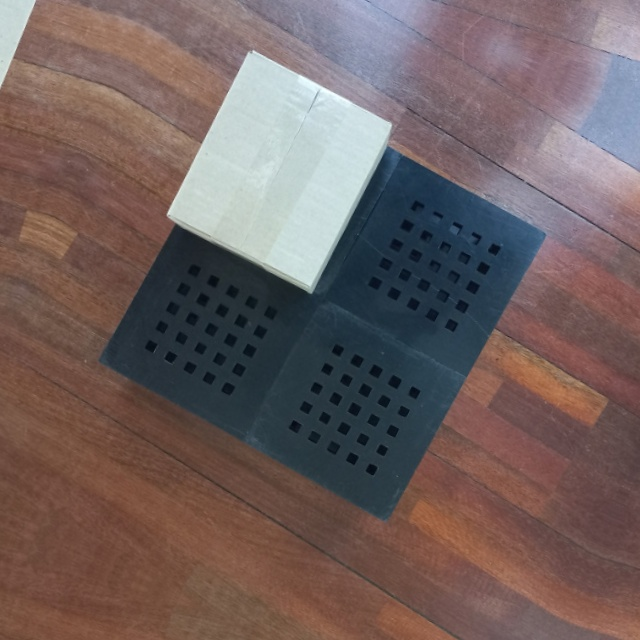box: (166, 46, 397, 296)
pallet: (87, 96, 551, 521)
